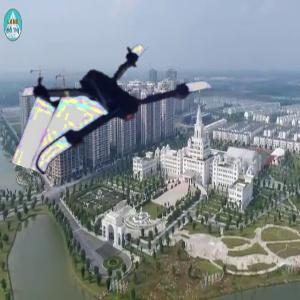drone: (25, 13, 209, 197)
